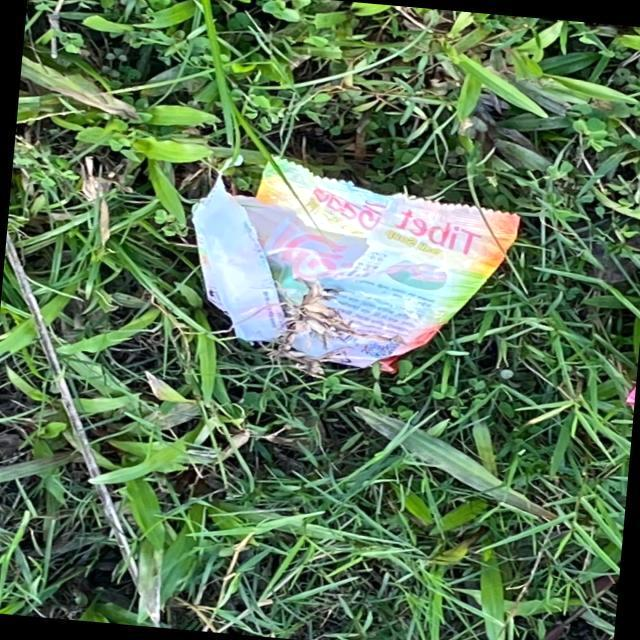packet: (180, 160, 532, 384)
